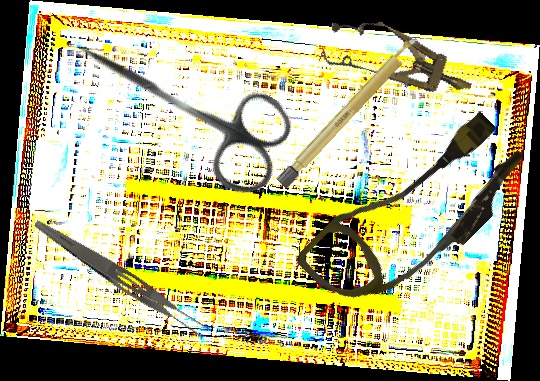Cannula: (293, 91, 539, 338)
Dressing Forceps: (28, 215, 213, 343)
Iris Scissors: (53, 6, 305, 205)
Scalpel Handle: (275, 33, 423, 190)
Speculum: (317, 6, 482, 116)
